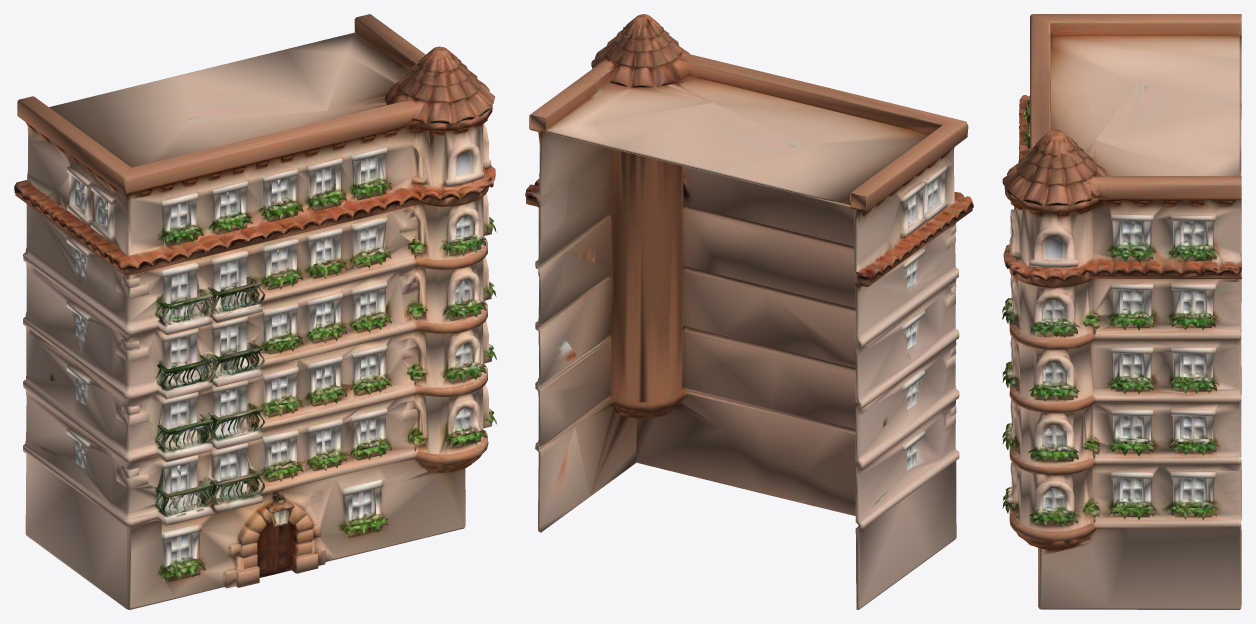
The model's file is gedung-plaza-g07.glb.
The picture shows the model from 3 angles, left to right: view 1: azimuth 30°, elevation 25°; view 2: azimuth 150°, elevation 25°; view 3: azimuth 270°, elevation 25°; orthographic projection. The views are drawn at different scales.
Visible parts, largest first — view 1: node_0; view 2: node_0; view 3: node_0.
Part boxes in pixels (x1,y1,x2,y2): node_0: [14, 14, 496, 609]; node_0: [525, 14, 973, 609]; node_0: [1002, 14, 1241, 609].
Size of the model in its own units: 0.7511 by 0.8965 by 0.4148.
Materials: 1 (1 with a texture image).
